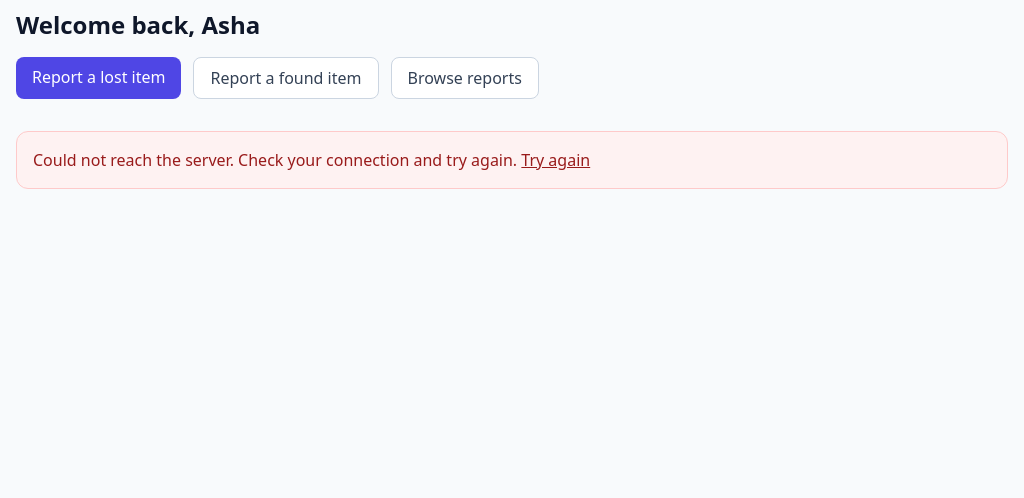
Test: Dashboard › shows an error with a retry
What coordinates should you click on to do the following:
click the button "Try again"
I would click on:
 (556, 160)
Its box is [521,148,590,172].
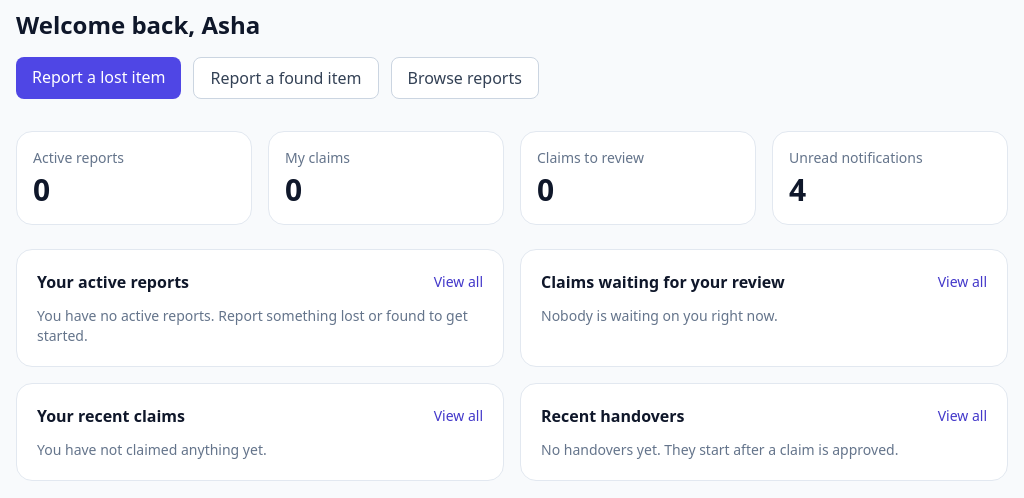
Expected: the text "Active reports" is shown, [33,148,124,167]
